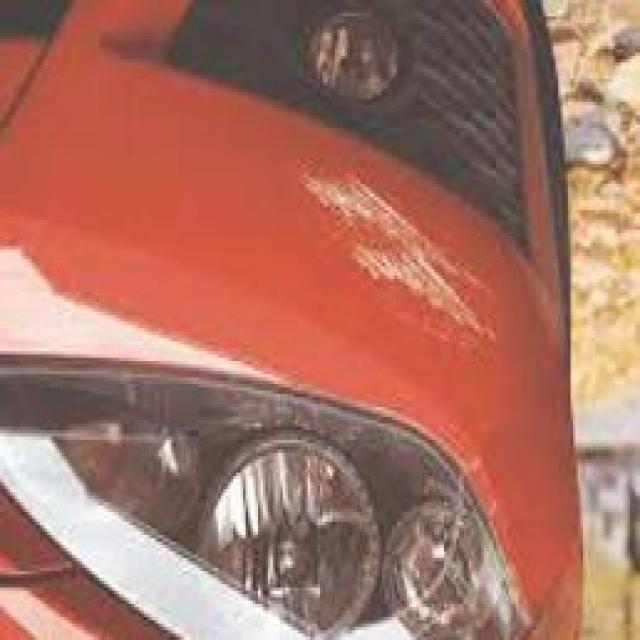scratch: (284, 150, 514, 360)
